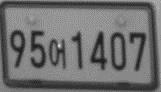0: (110, 31, 126, 71)
1: (70, 30, 84, 70)
4: (89, 30, 108, 71)
5: (30, 29, 46, 68)
7: (128, 30, 146, 71)
9: (8, 29, 25, 68)
어: (49, 38, 66, 69)
